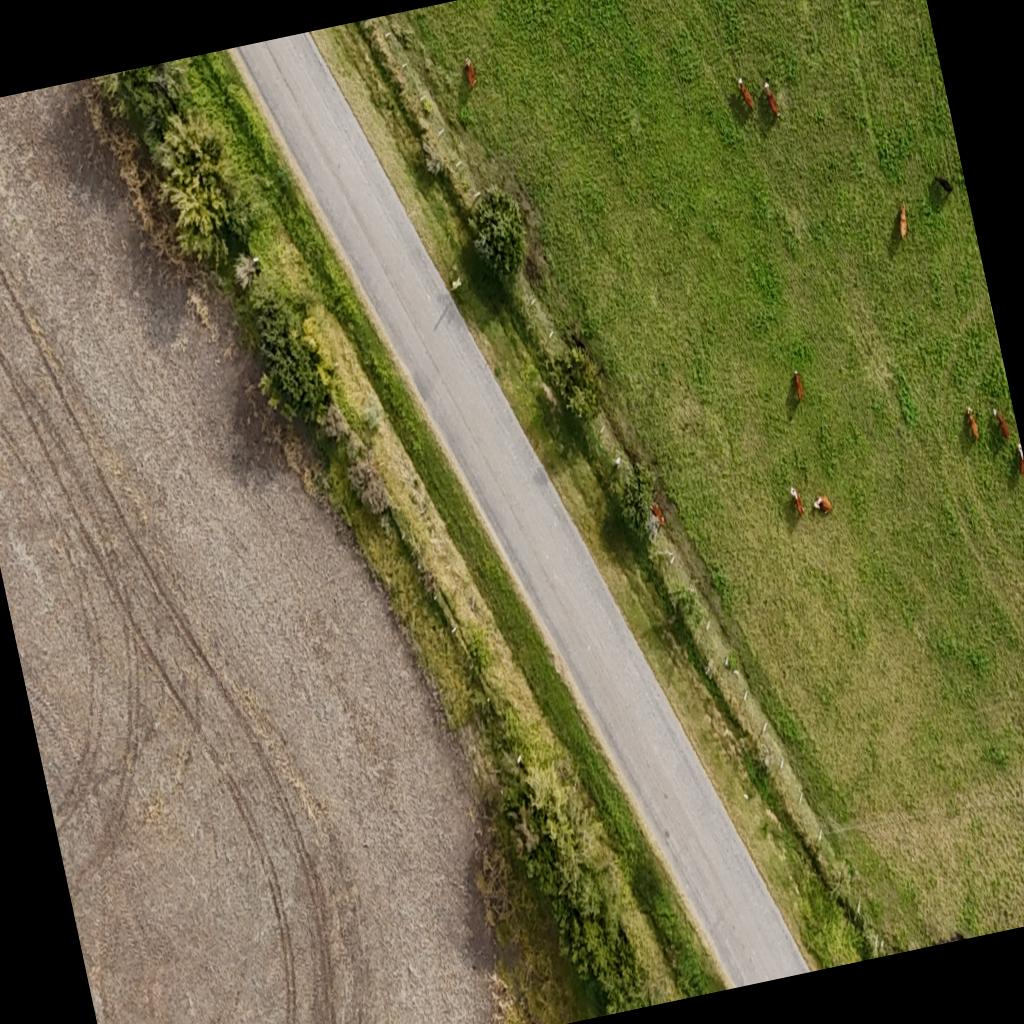cow: (1002, 439, 1024, 480), (892, 202, 914, 242), (990, 404, 1012, 444), (762, 78, 782, 120), (931, 174, 958, 204), (736, 76, 756, 112), (464, 53, 482, 89), (790, 368, 807, 404), (966, 406, 982, 442), (649, 500, 667, 532), (813, 492, 835, 518), (790, 486, 806, 519)
